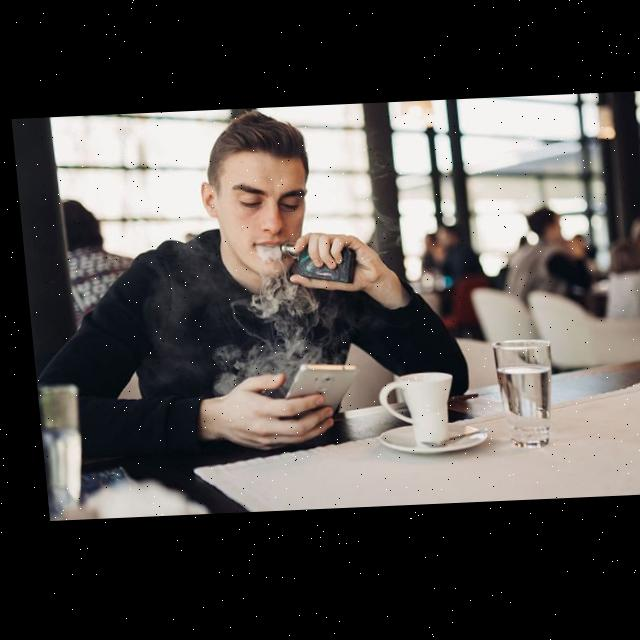vape: (274, 243, 352, 289)
